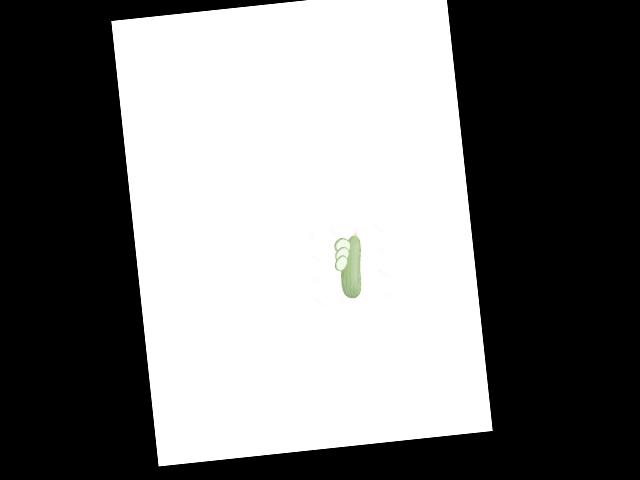cucumber: (335, 231, 365, 300)
